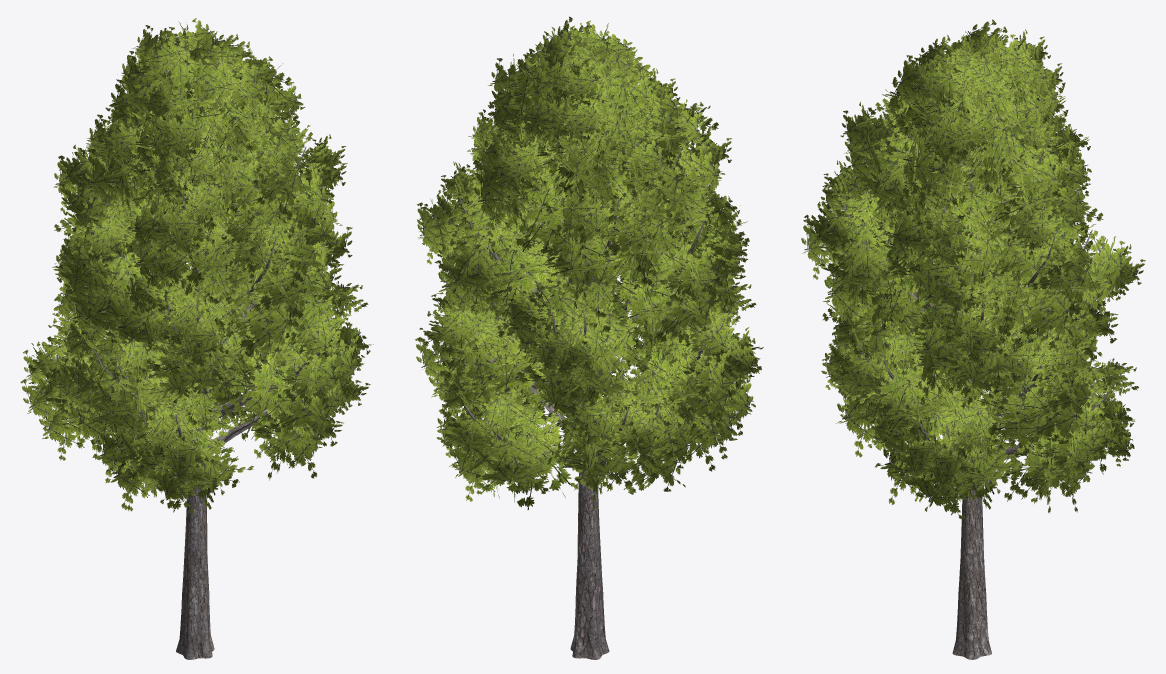
The model's file is Tree_010.fbx.
3 renders of one model, left to right at view 1: azimuth 30°, elevation 25°; view 2: azimuth 150°, elevation 25°; view 3: azimuth 270°, elevation 25°, orthographic.
Parts seen in each view (by area): view 1: Tree_010; view 2: Tree_010; view 3: Tree_010.
Boxes of the visible parts, x1,y1,x2,y2 form: Tree_010: [20, 18, 373, 659]; Tree_010: [415, 16, 763, 659]; Tree_010: [801, 19, 1145, 659].
Size of the model in its own units: 551 by 1036 by 534.
Materials: 2 (2 with a texture image).
